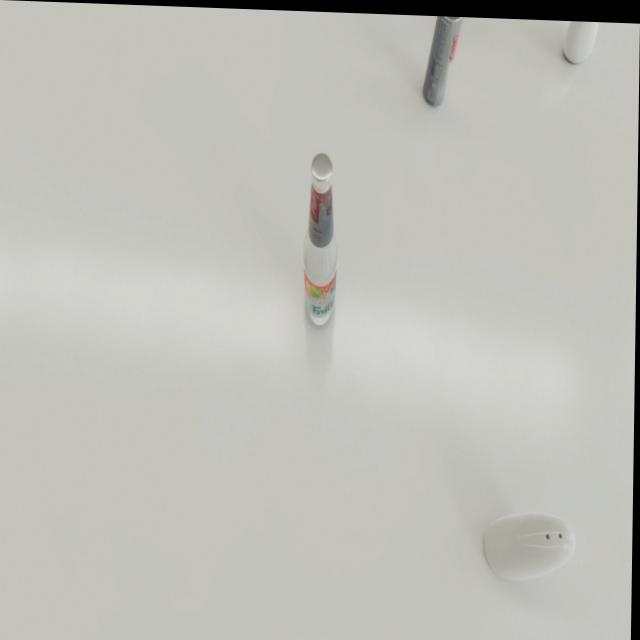Bottle: (302, 150, 341, 329)
Rita_zero_sugar: (423, 13, 464, 104)
Salt: (486, 507, 577, 578), (563, 16, 599, 59)
